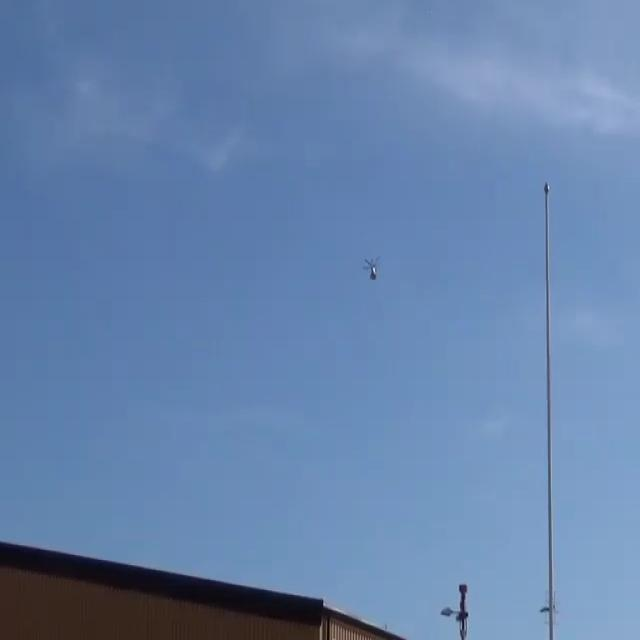Helicopter: (352, 248, 393, 290)
